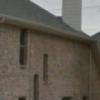chimneys: (60, 0, 82, 34)
